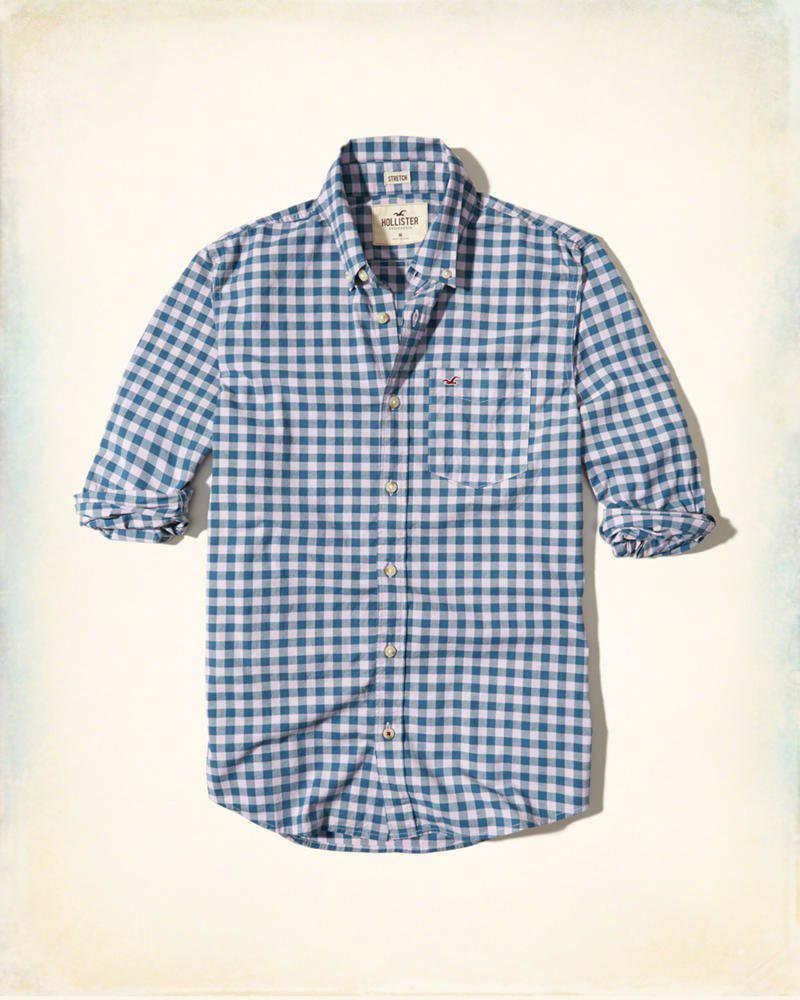teeshirt: (77, 121, 726, 881)
